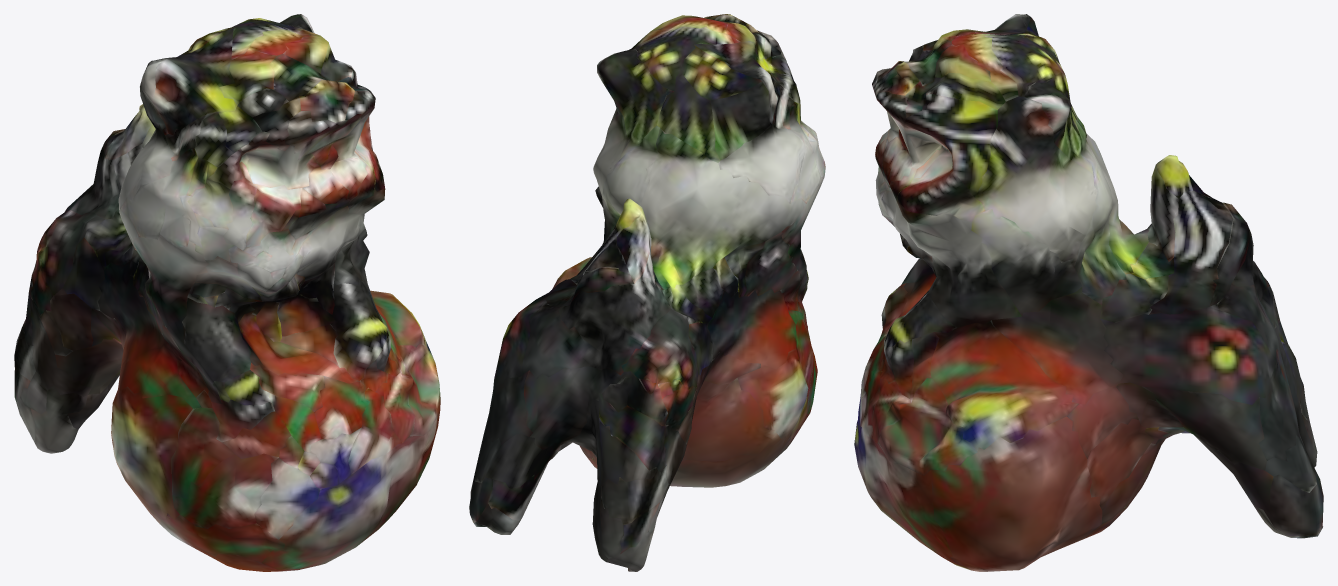
The model's file is hall.glb.
The picture shows the model from 3 angles, left to right: view 1: azimuth 30°, elevation 25°; view 2: azimuth 150°, elevation 25°; view 3: azimuth 270°, elevation 25°; orthographic projection. The views are drawn at different scales.
Size of the model in its own units: 0.4689 by 0.8037 by 0.6818.
Materials: 1 (1 with a texture image).
